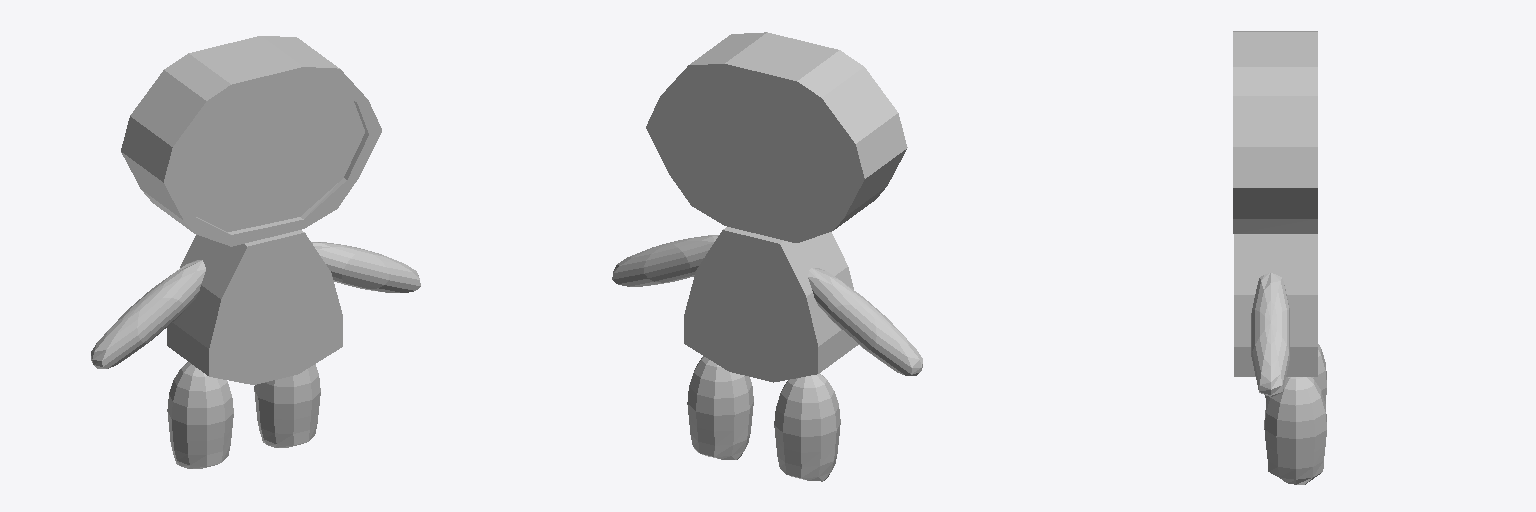
The model's file is SillyBoxGame_Robot.obj.
3 views of the same model, side by side, from view 1: azimuth 30°, elevation 25°; view 2: azimuth 150°, elevation 25°; view 3: azimuth 270°, elevation 25° (orthographic).
Visible parts, largest first — view 1: pSphere7; view 2: pSphere7; view 3: pSphere7.
Boxes of the visible parts, x1=… form: pSphere7: x1=91, y1=36, x2=420, y2=468; pSphere7: x1=612, y1=32, x2=922, y2=481; pSphere7: x1=1233, y1=31, x2=1326, y2=484.
Bounding box in the file's own units: 5.52 × 6.67 × 1.42.